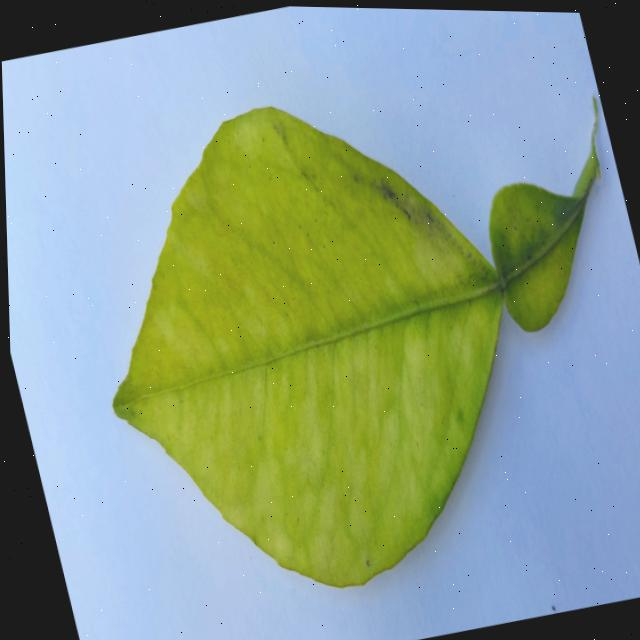greening: (113, 96, 600, 586)
